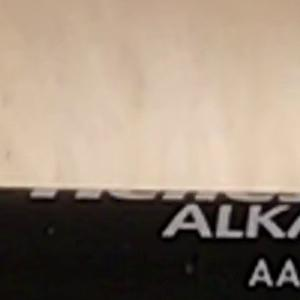ALK: (153, 195, 281, 247)
